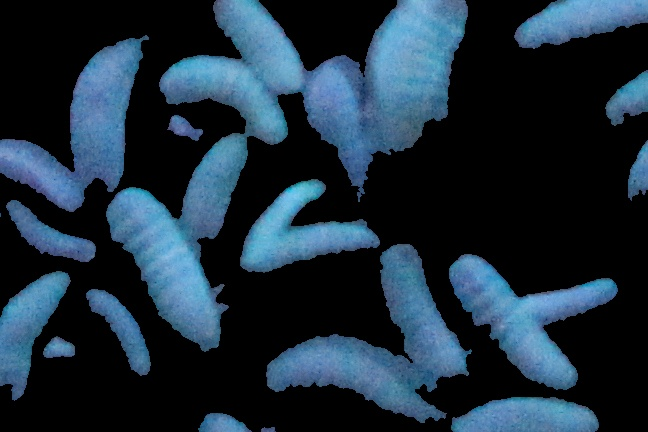larvae: (108, 186, 222, 353), (448, 251, 580, 389), (267, 332, 435, 430), (369, 1, 470, 152), (379, 243, 468, 389), (68, 39, 142, 192), (160, 55, 292, 140), (303, 55, 377, 200), (1, 271, 71, 398), (176, 134, 262, 237), (208, 1, 301, 93), (511, 1, 648, 56), (83, 284, 160, 380), (1, 196, 103, 268), (249, 222, 378, 274), (243, 180, 326, 256), (1, 138, 83, 204), (512, 277, 619, 327), (450, 398, 606, 432)
